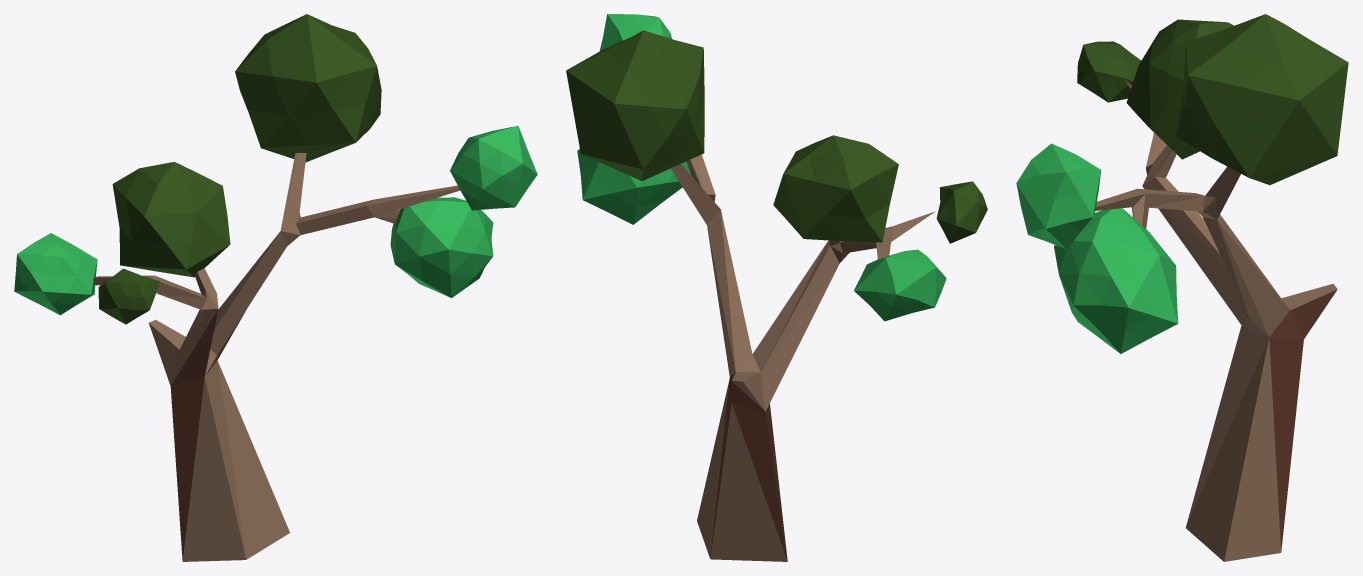
The model's file is tree3.fbx.
3 views of the same model, side by side, from view 1: azimuth 30°, elevation 25°; view 2: azimuth 150°, elevation 25°; view 3: azimuth 270°, elevation 25° (orthographic). The views are drawn at different scales.
Parts seen in each view (by area): view 1: Icosphere.001; view 2: Icosphere.001; view 3: Icosphere.001.
Boxes of the visible parts, x1,y1,x2,y2 form: Icosphere.001: (14,14,537,561); Icosphere.001: (566,14,987,561); Icosphere.001: (1016,14,1348,561).
Bounding box in the file's own units: 451 × 869 × 765.
